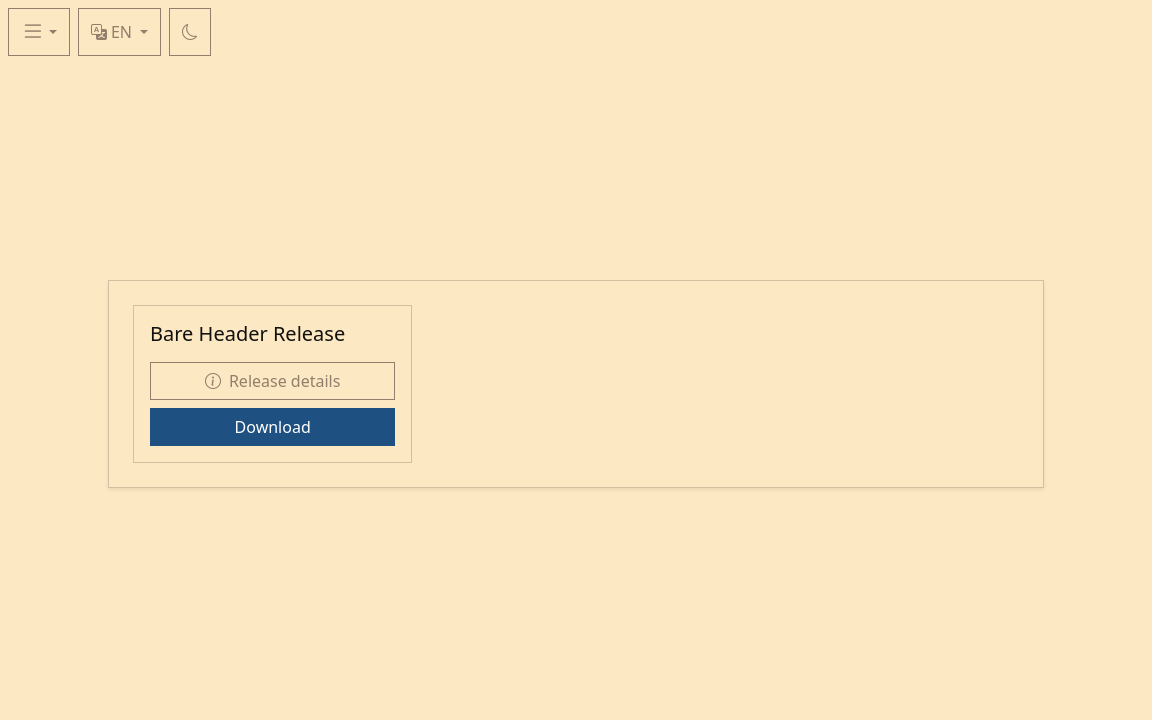
Home › shows fallbacks when descriptions, dates, and assets are unavailable
The width and height of the screenshot is (1152, 720).
Click the button with aria-label "Release details: Bare Header Release". click: (273, 381)
box: [150, 362, 395, 400]
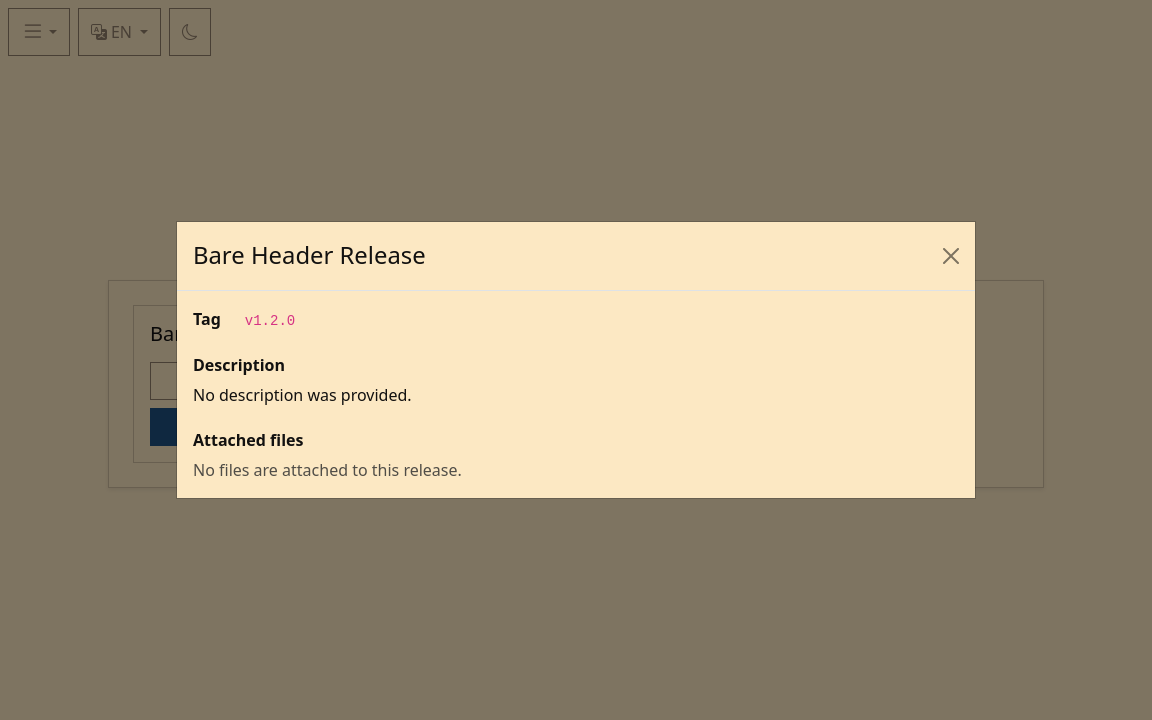
Result: the text "No description was provided." is shown at [193, 384, 412, 406]
Result: the text "No files are attached to this release." is shown at [193, 459, 462, 481]
Click the button named "Close". click: (951, 256)
box: [935, 240, 967, 272]
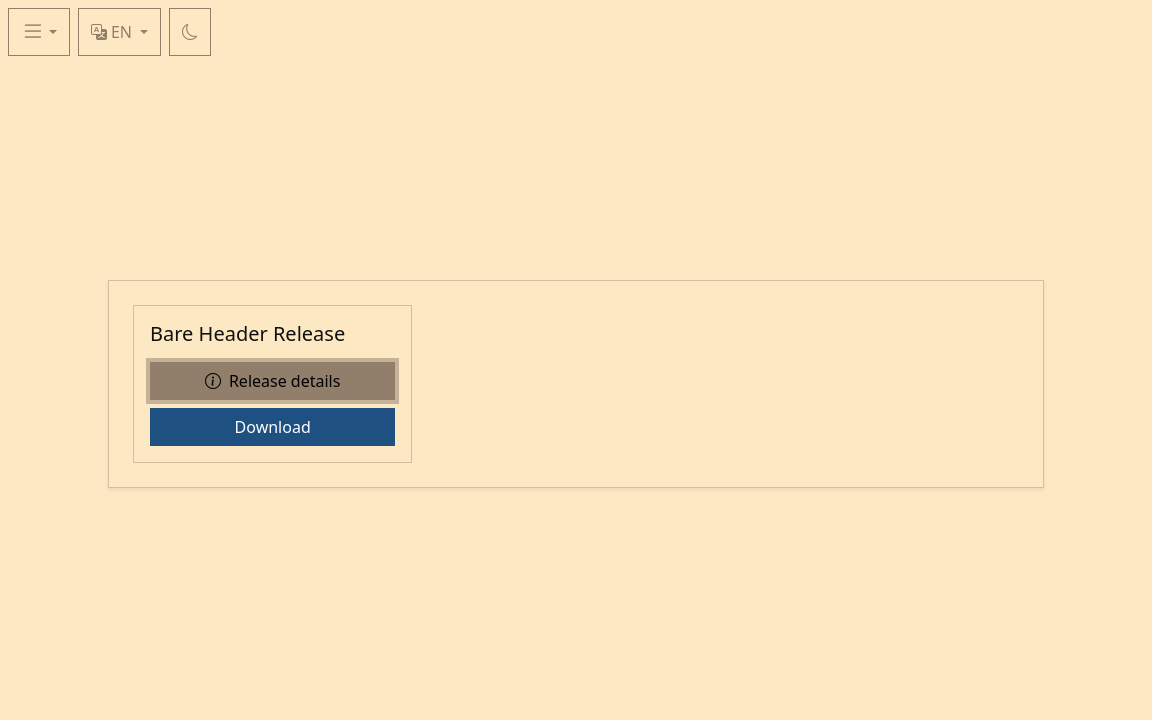
Result: the dialog is gone
